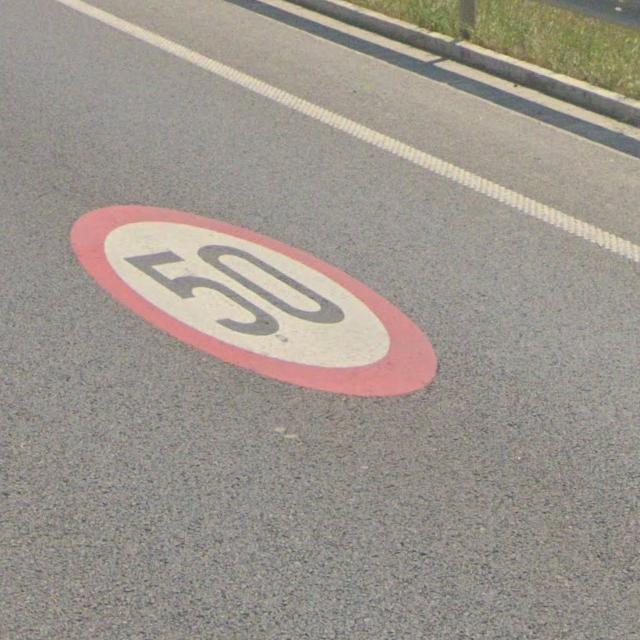forb_speed_over_50: (64, 203, 442, 405)
